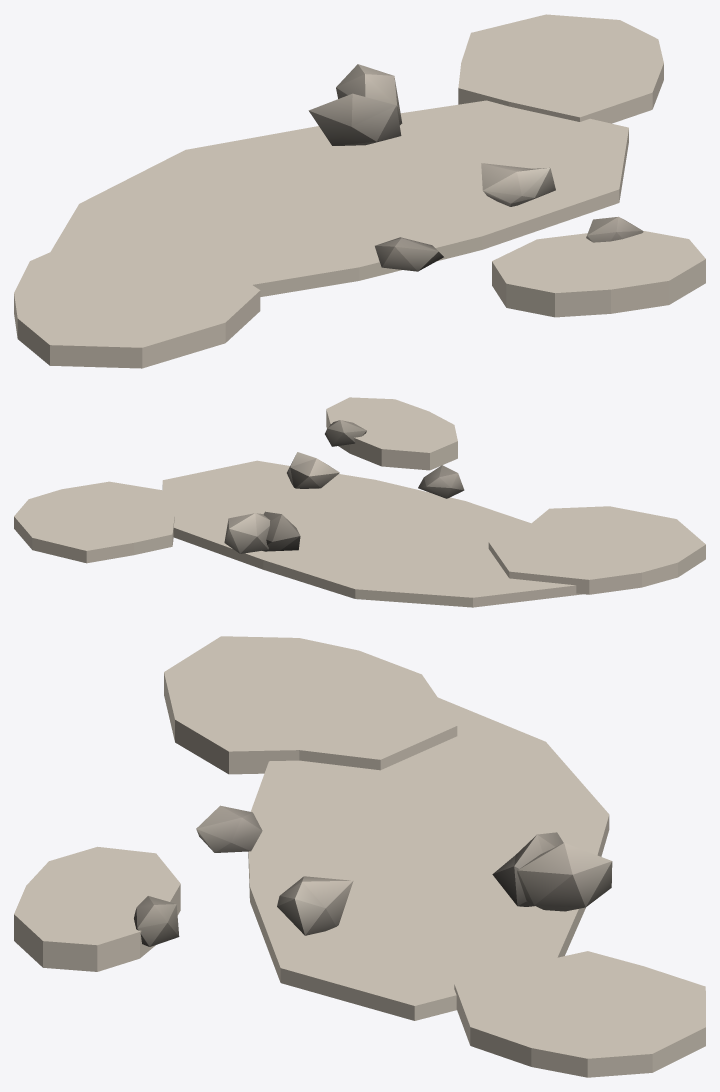
File: SM_VKI_Overlay_Debris_Slag.fbx
The picture shows the model from 3 angles, top to bottom: view 1: azimuth 30°, elevation 25°; view 2: azimuth 150°, elevation 25°; view 3: azimuth 270°, elevation 25°; orthographic projection. The views are drawn at different scales.
Parts seen in each view (by area): view 1: SM_VKI_Overlay_Debris_Slag.001; view 2: SM_VKI_Overlay_Debris_Slag.001; view 3: SM_VKI_Overlay_Debris_Slag.001.
Part boxes in pixels (box(x1,y1,x2,y2)): SM_VKI_Overlay_Debris_Slag.001: box(14, 14, 705, 368); SM_VKI_Overlay_Debris_Slag.001: box(14, 397, 705, 607); SM_VKI_Overlay_Debris_Slag.001: box(14, 636, 705, 1077).
Bounding box in the file's own units: 0.6848 × 0.0554 × 0.4798.
